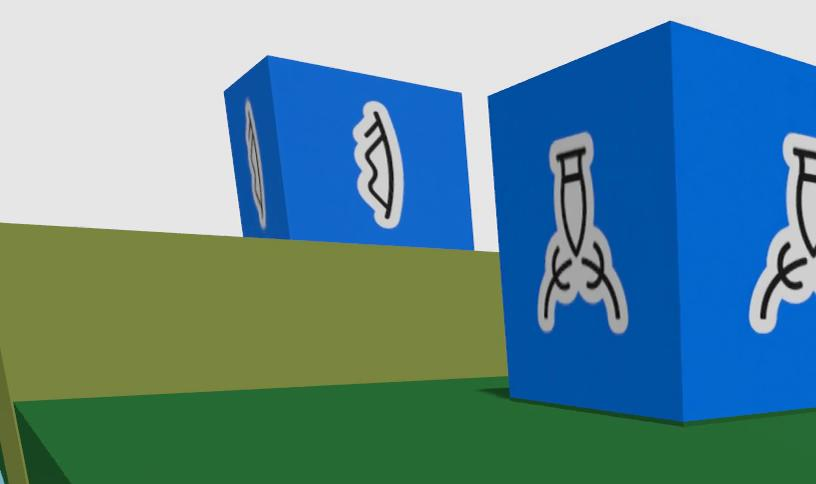KFS_REAL: (489, 23, 816, 421), (224, 56, 473, 248), (537, 132, 627, 333), (750, 133, 816, 333), (353, 101, 402, 228)
